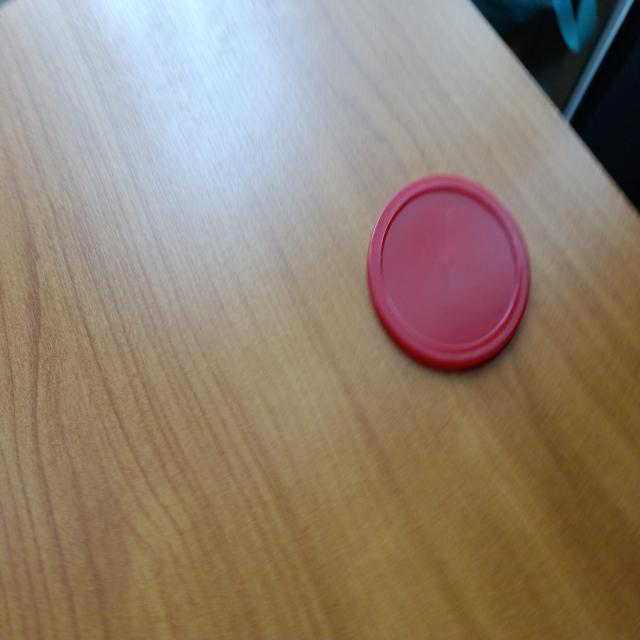chip: (365, 169, 535, 371)
